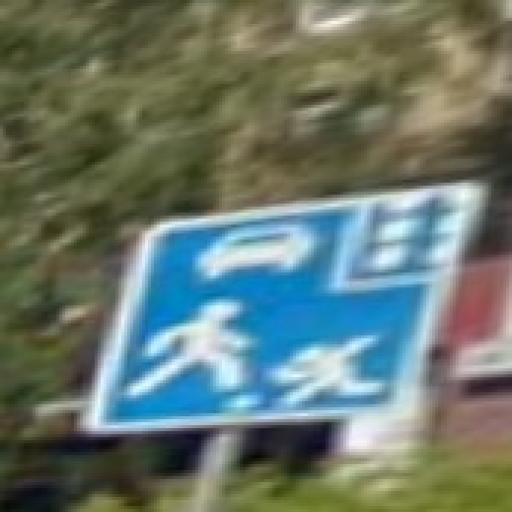traffic_sign: (75, 178, 492, 441)
